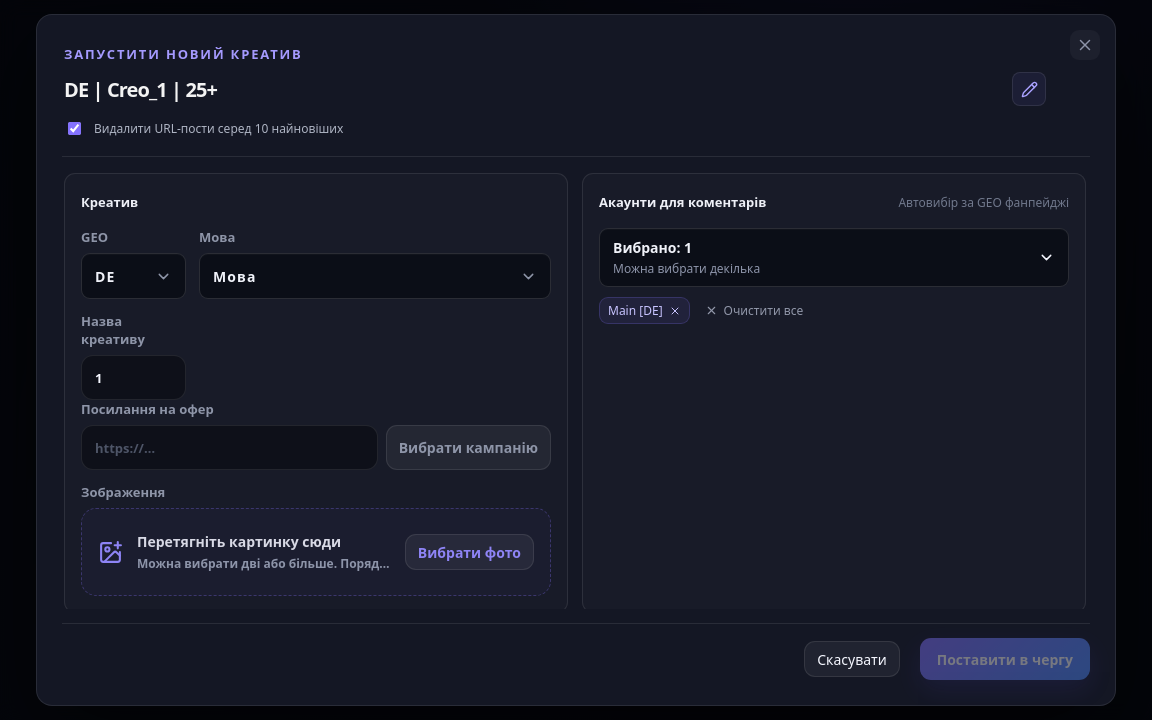
Test: Вікно запуску креатива › використовує заголовок кампанії, автогрупу й пошукові контролі
Expected: the heading "DE | Creo_1 | 25+" is shown, [64,76,217,102]
Expected: the button with aria-label "Акаунти для коментарів" shows "Вибрано: 1", [599,228,1069,287]
Click the button titled "Змінити назву" at (1029, 89), box [1012,72,1046,106]
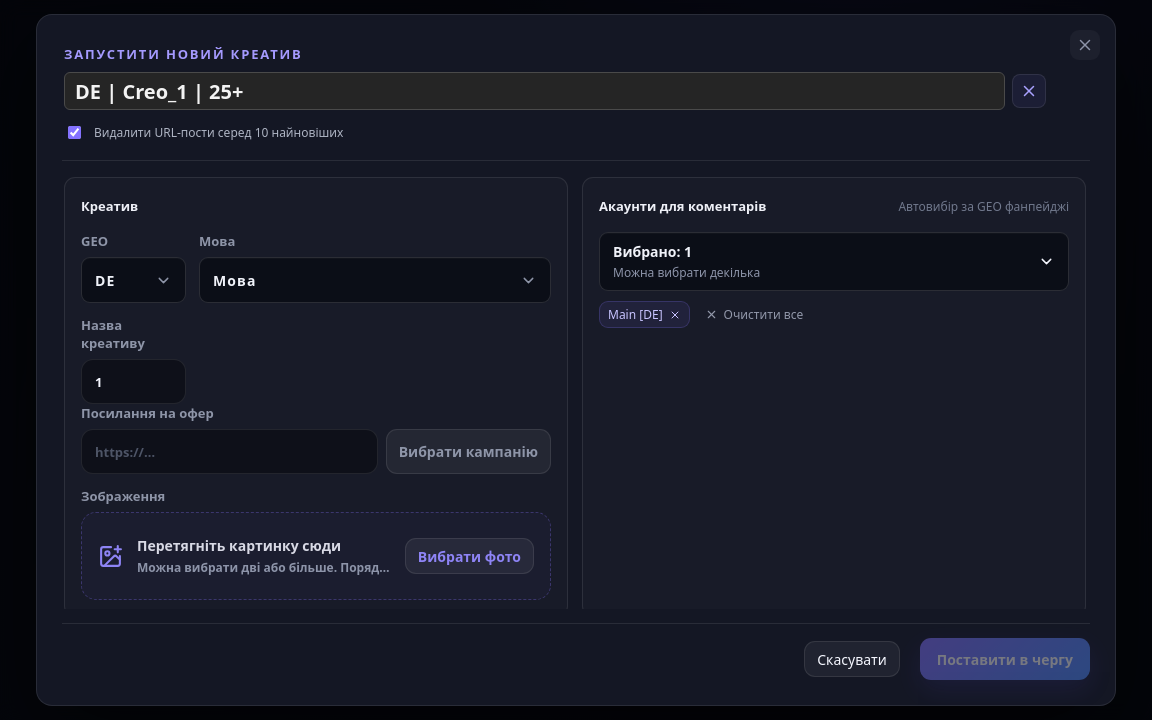
Replace the text in the field named "Назва кампанії" with "Моя кампанія" at (534, 91), box [64,72,1005,110]
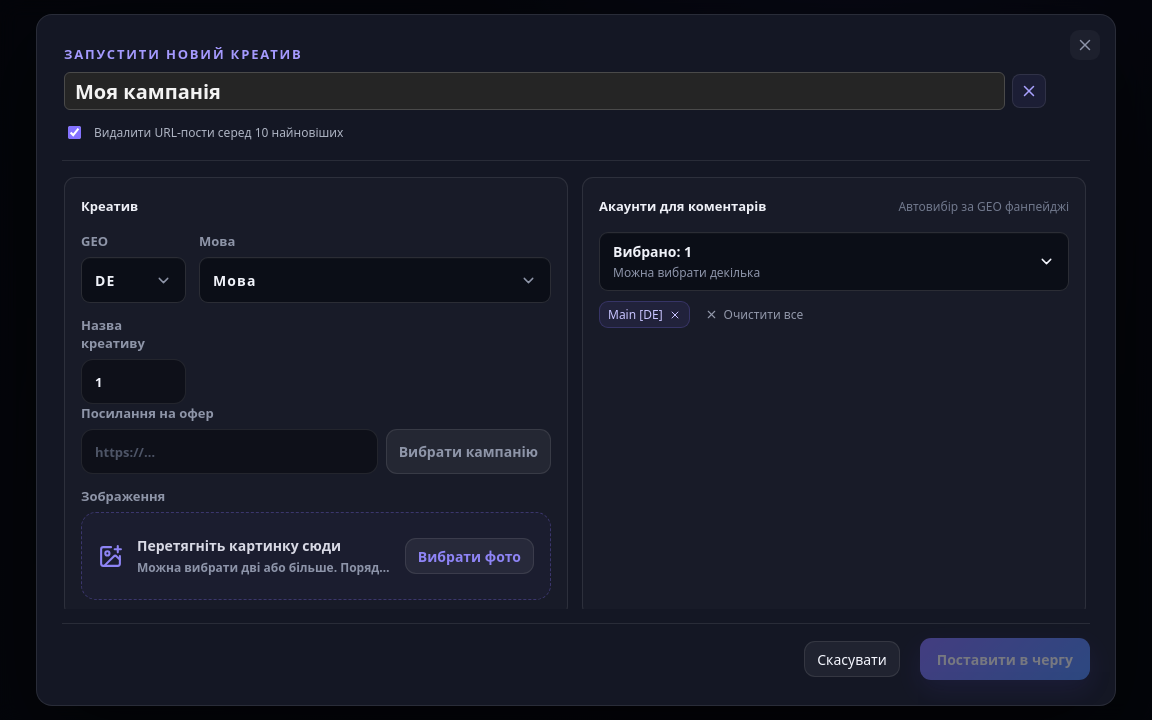
Click the button titled "Повернути автоматичну назву" at (1029, 91), box [1012,74,1046,108]
(page scrolled)
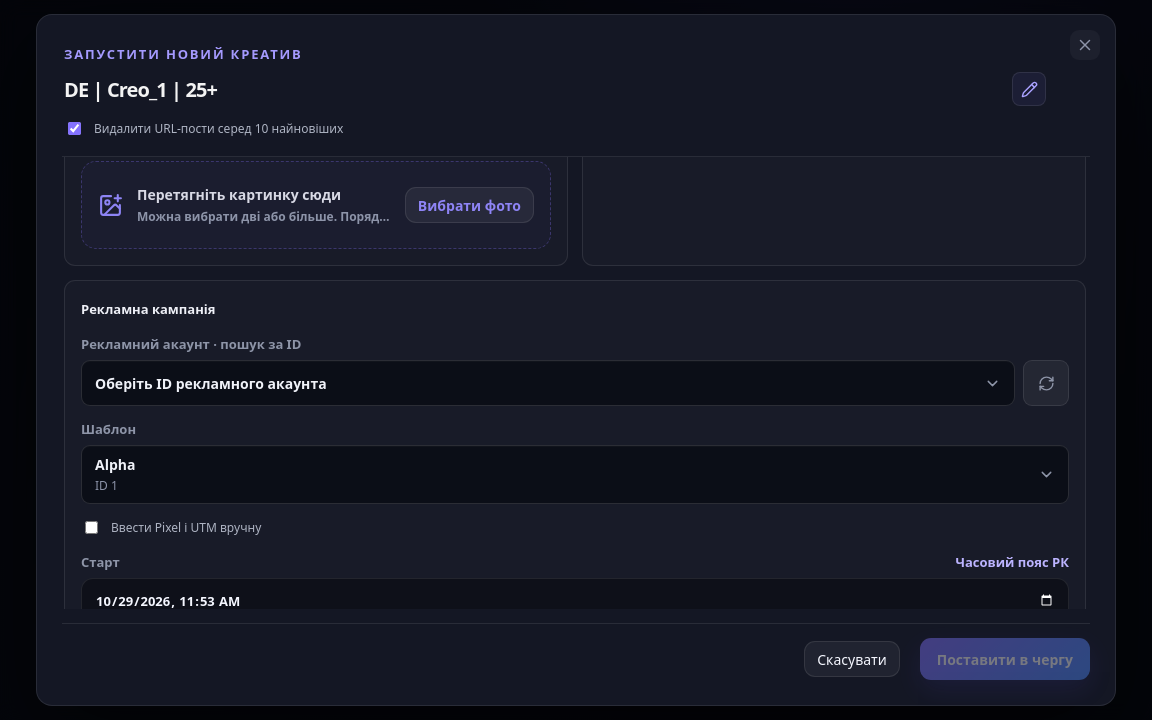
Expected: the heading "DE | Creo_1 | 25+" is shown, [64,76,217,102]
Click the button with aria-label "Рекламний акаунт" at (211, 383), box [81,360,1015,406]
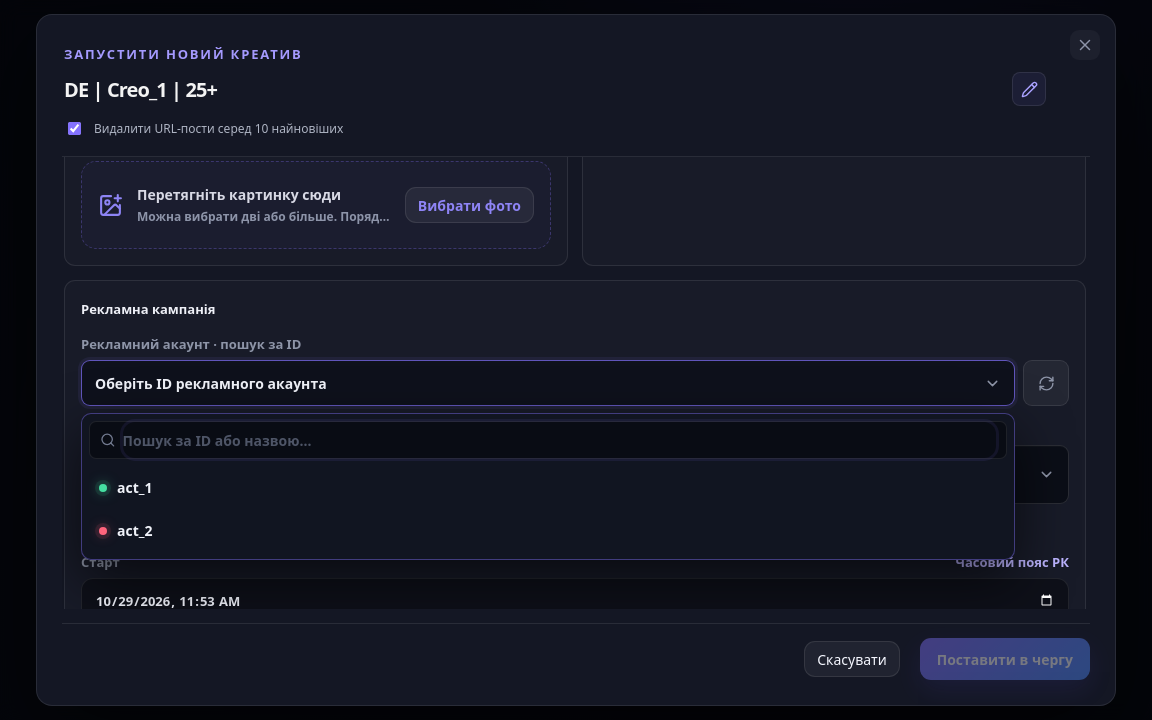
Expected: the button "act_1" is shown, [89,466,1007,509]
Expected: the button "act_2" is shown, [89,509,1007,552]
